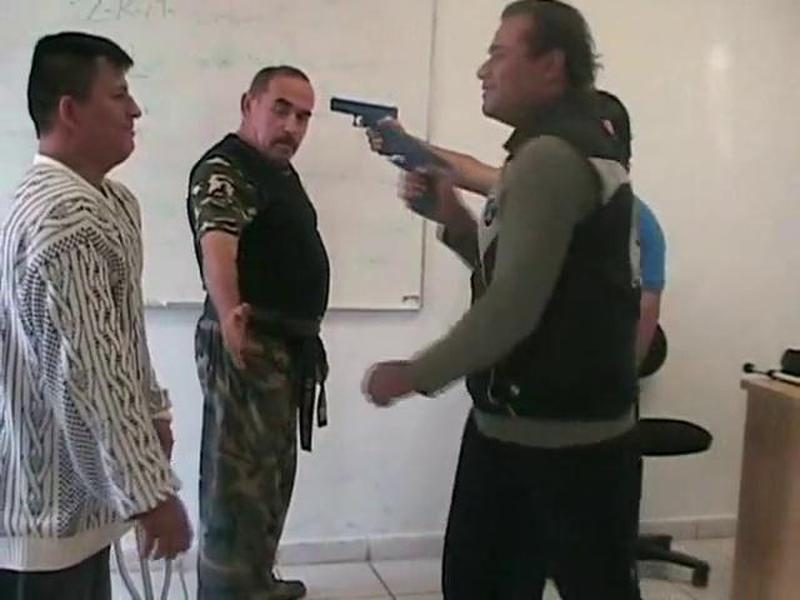Pistola: (309, 93, 420, 166)
